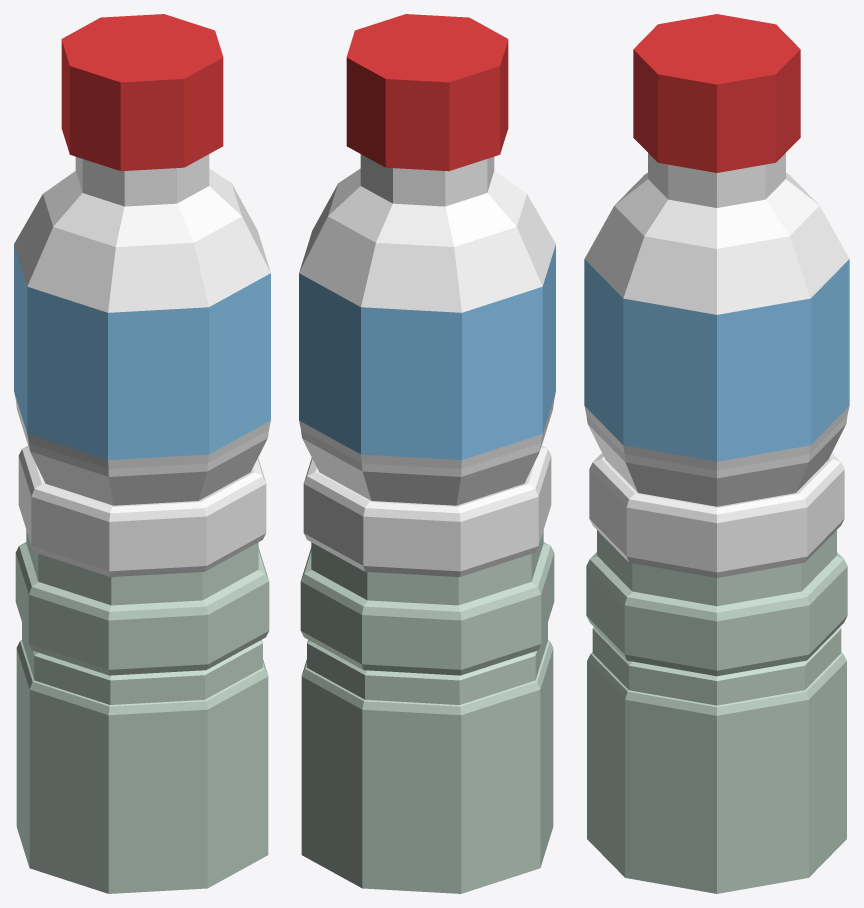
File: bottle.fbx
3 views of the same model, side by side, from view 1: azimuth 30°, elevation 25°; view 2: azimuth 150°, elevation 25°; view 3: azimuth 270°, elevation 25° (orthographic).
Visible parts, largest first — view 1: Cylinder; view 2: Cylinder; view 3: Cylinder.
Boxes of the visible parts, x1=… form: Cylinder: x1=14, y1=14, x2=270, y2=893; Cylinder: x1=299, y1=14, x2=555, y2=893; Cylinder: x1=584, y1=14, x2=849, y2=893.
Bounding box in the file's own units: 204 × 671 × 204.
1 material, 1 textured.
